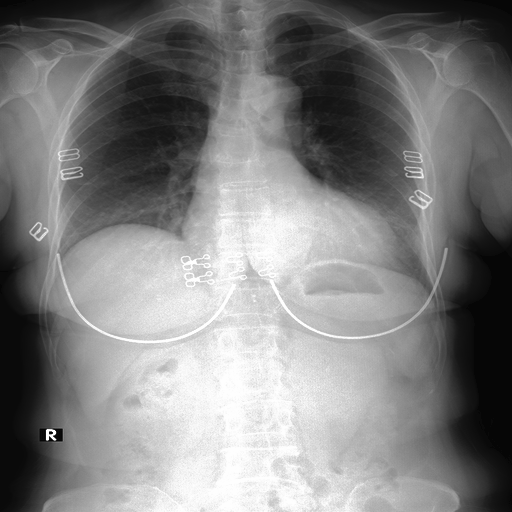Calcification: (272, 6, 340, 22), (135, 15, 205, 29)
Consolidation: (259, 75, 302, 110)
Nodule/Mass: (180, 205, 399, 259)
